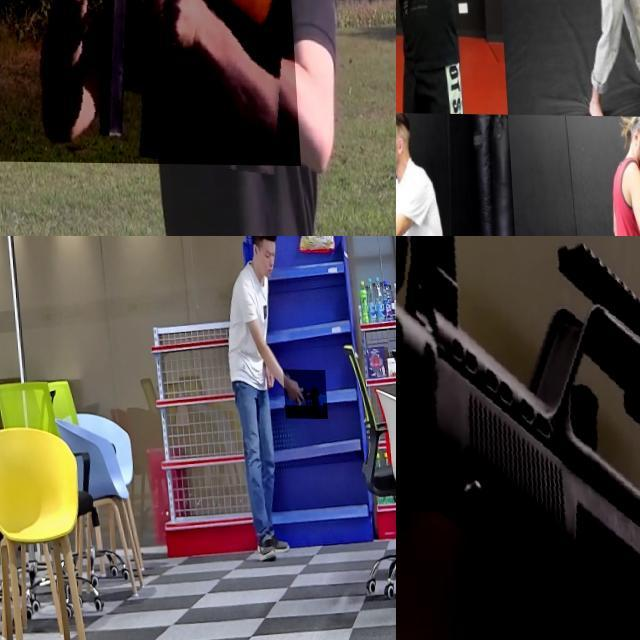-: (396, 20, 420, 87)
gun-knife-thesis - v11 Yolov5 augmented: (396, 236, 640, 640), (0, 0, 294, 164), (280, 368, 324, 418)
